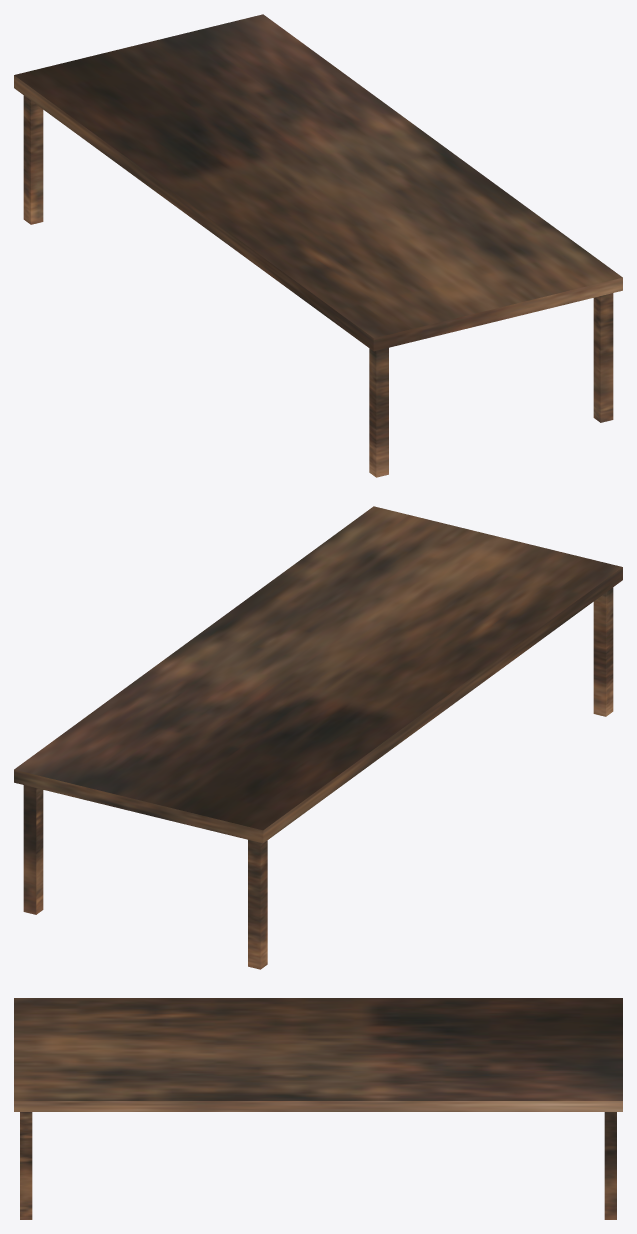
File: Table.glb
3 renders of one model, top to bottom at view 1: azimuth 30°, elevation 25°; view 2: azimuth 150°, elevation 25°; view 3: azimuth 270°, elevation 25°, orthographic. The views are drawn at different scales.
Parts seen in each view (by area): view 1: Cube; view 2: Cube; view 3: Cube.
Part boxes in pixels (bbox=[...]): Cube: bbox=[14, 14, 622, 477]; Cube: bbox=[14, 506, 622, 969]; Cube: bbox=[14, 998, 622, 1219].
Size of the model in its own units: 4 by 2.2 by 10.
1 material, 1 textured.
